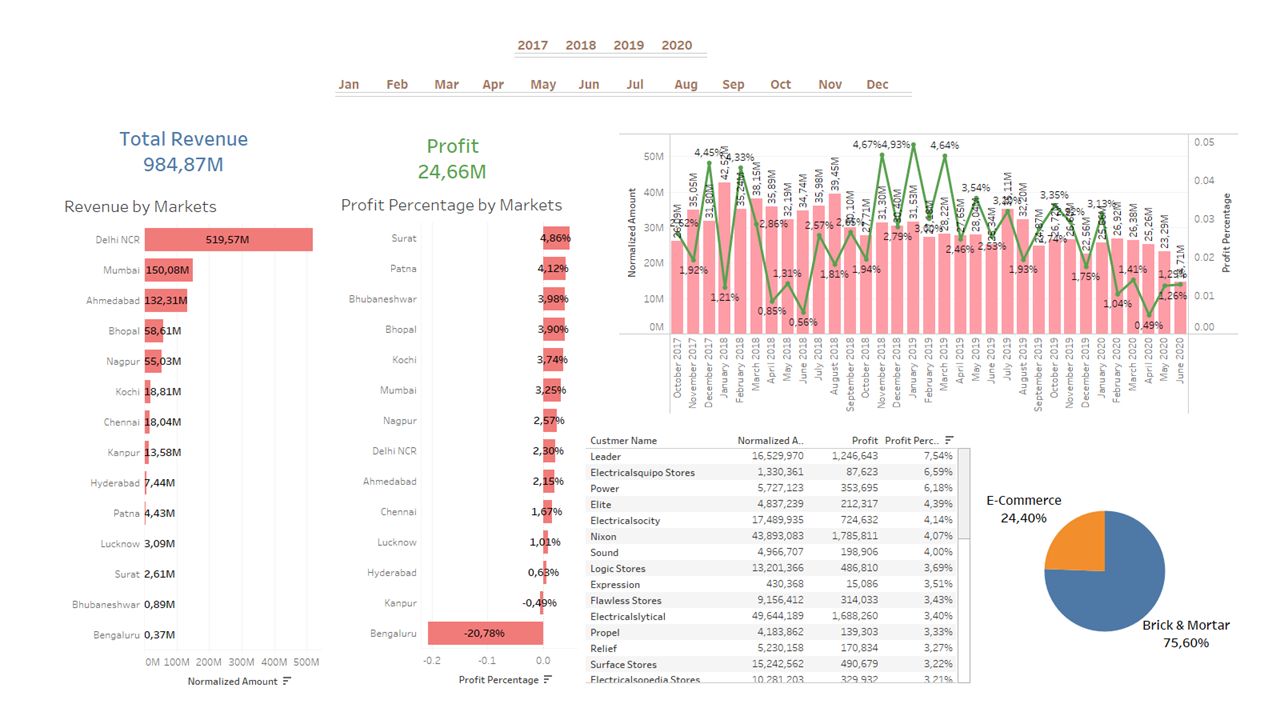

The page's visual inventory and layout, read from the dashboard file:
{"tool":"tableau","page":{"name":"Dashboard - Profit Analysis","canvas":[1500,900],"ordinal":0},"visuals":[{"type":"worksheet","title":"Year","mark":"Automatic","cols":["cy_date"],"box":[593,30,260,47]},{"type":"worksheet","title":"Month","mark":"Automatic","cols":["cy_date"],"box":[369,79,744,57]},{"type":"worksheet","title":"Revenue","mark":"Automatic","box":[90,141,201,98]},{"type":"worksheet","title":"Profit","mark":"Automatic","box":[466,150,115,95]},{"type":"worksheet","title":"Profit Trend","mark":"Bar","rows":["Calculation_1449596146905944064","Calculation_1242712039099510784"],"cols":["cy_date"],"box":[724,152,775,366]},{"type":"worksheet","title":"Profit Percentage by Markets","mark":"Automatic","rows":["markets_name"],"cols":["Calculation_1242712039099510784"],"box":[372,235,299,637]},{"type":"worksheet","title":"Revenue by Markets","mark":"Automatic","rows":["markets_name"],"cols":["Calculation_1449596146905944064"],"box":[26,237,326,634]},{"type":"worksheet","title":"Customer Table","mark":"Automatic","rows":["custmer_name"],"box":[682,525,493,329]},{"type":"worksheet","title":"Pie Chart","mark":"Pie","box":[1173,548,316,317]}]}

Visuals, with their boxes on the page's 1500x900 design canvas (x1, y1, x2, y2). These are canvas units, not pixel positions in the 1280x720 screenshot, which may show the page scaled, cropped or inside an application window:
"Year" worksheet: [left=593, top=30, right=853, bottom=77]
"Month" worksheet: [left=369, top=79, right=1113, bottom=136]
"Revenue" worksheet: [left=90, top=141, right=291, bottom=239]
"Profit" worksheet: [left=466, top=150, right=581, bottom=245]
"Profit Trend" worksheet (Bar marks): [left=724, top=152, right=1499, bottom=518]
"Profit Percentage by Markets" worksheet: [left=372, top=235, right=671, bottom=872]
"Revenue by Markets" worksheet: [left=26, top=237, right=352, bottom=871]
"Customer Table" worksheet: [left=682, top=525, right=1175, bottom=854]
"Pie Chart" worksheet (Pie marks): [left=1173, top=548, right=1489, bottom=865]
